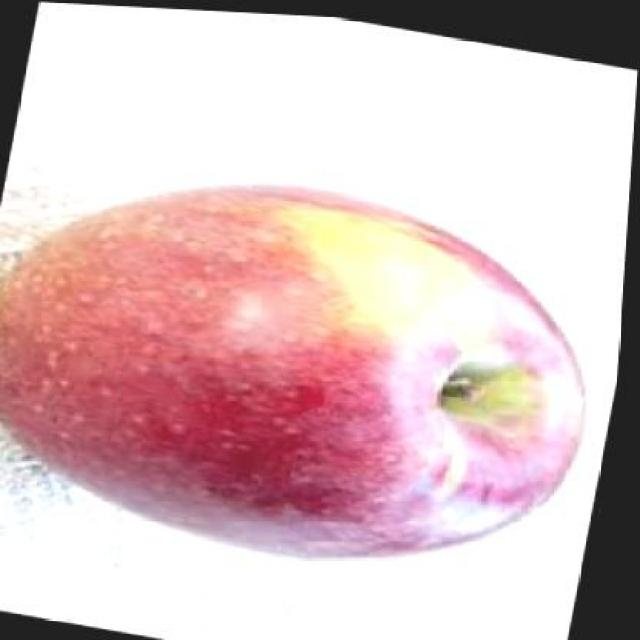Fresh Apple: (5, 192, 583, 564)
